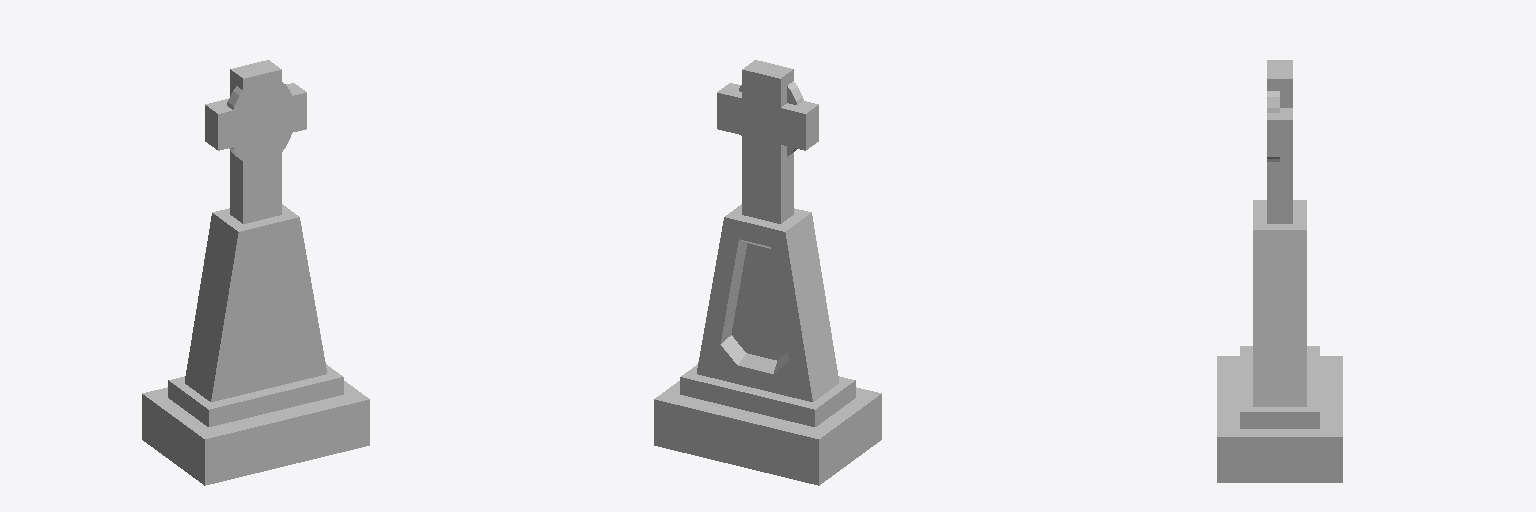
The model's file is gravestoneCross.obj.
3 renders of one model, left to right at view 1: azimuth 30°, elevation 25°; view 2: azimuth 150°, elevation 25°; view 3: azimuth 270°, elevation 25°, orthographic.
Parts seen in each view (by area): view 1: gravestoneCross; view 2: gravestoneCross; view 3: gravestoneCross.
Part boxes in pixels (bbox=[...]): gravestoneCross: bbox=[142, 60, 369, 485]; gravestoneCross: bbox=[654, 60, 881, 485]; gravestoneCross: bbox=[1217, 60, 1342, 482].
Size of the model in its own units: 4.42 by 9.54 by 2.91.